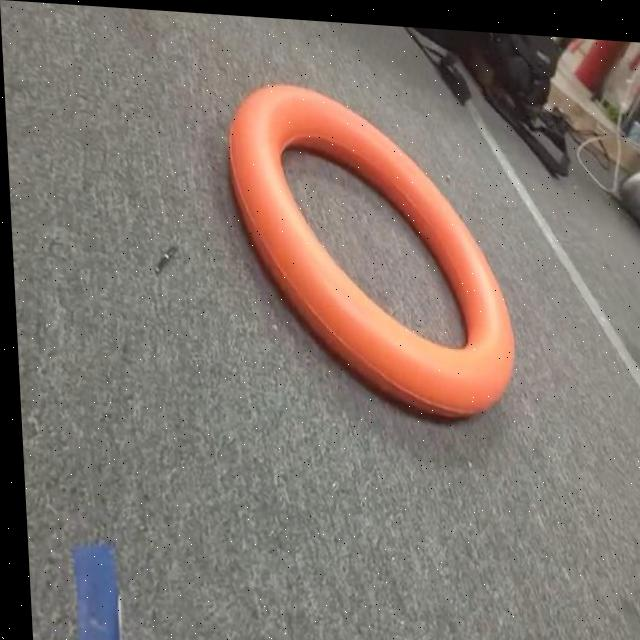note: (203, 74, 523, 432)
